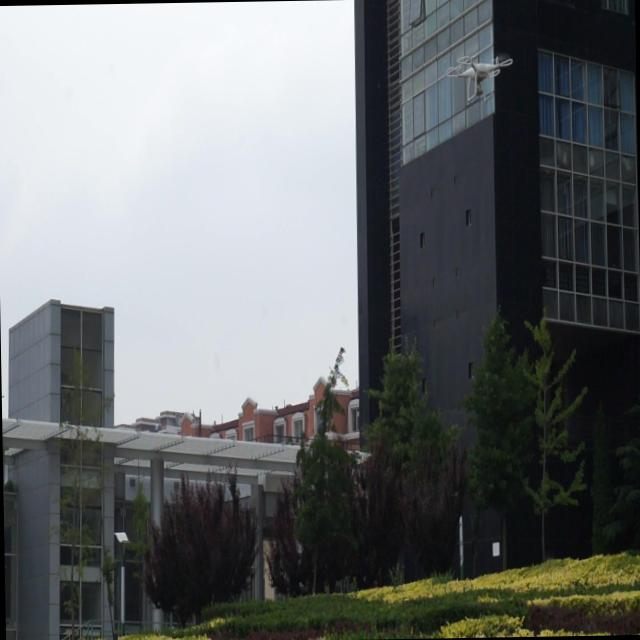drone: (444, 50, 512, 105)
